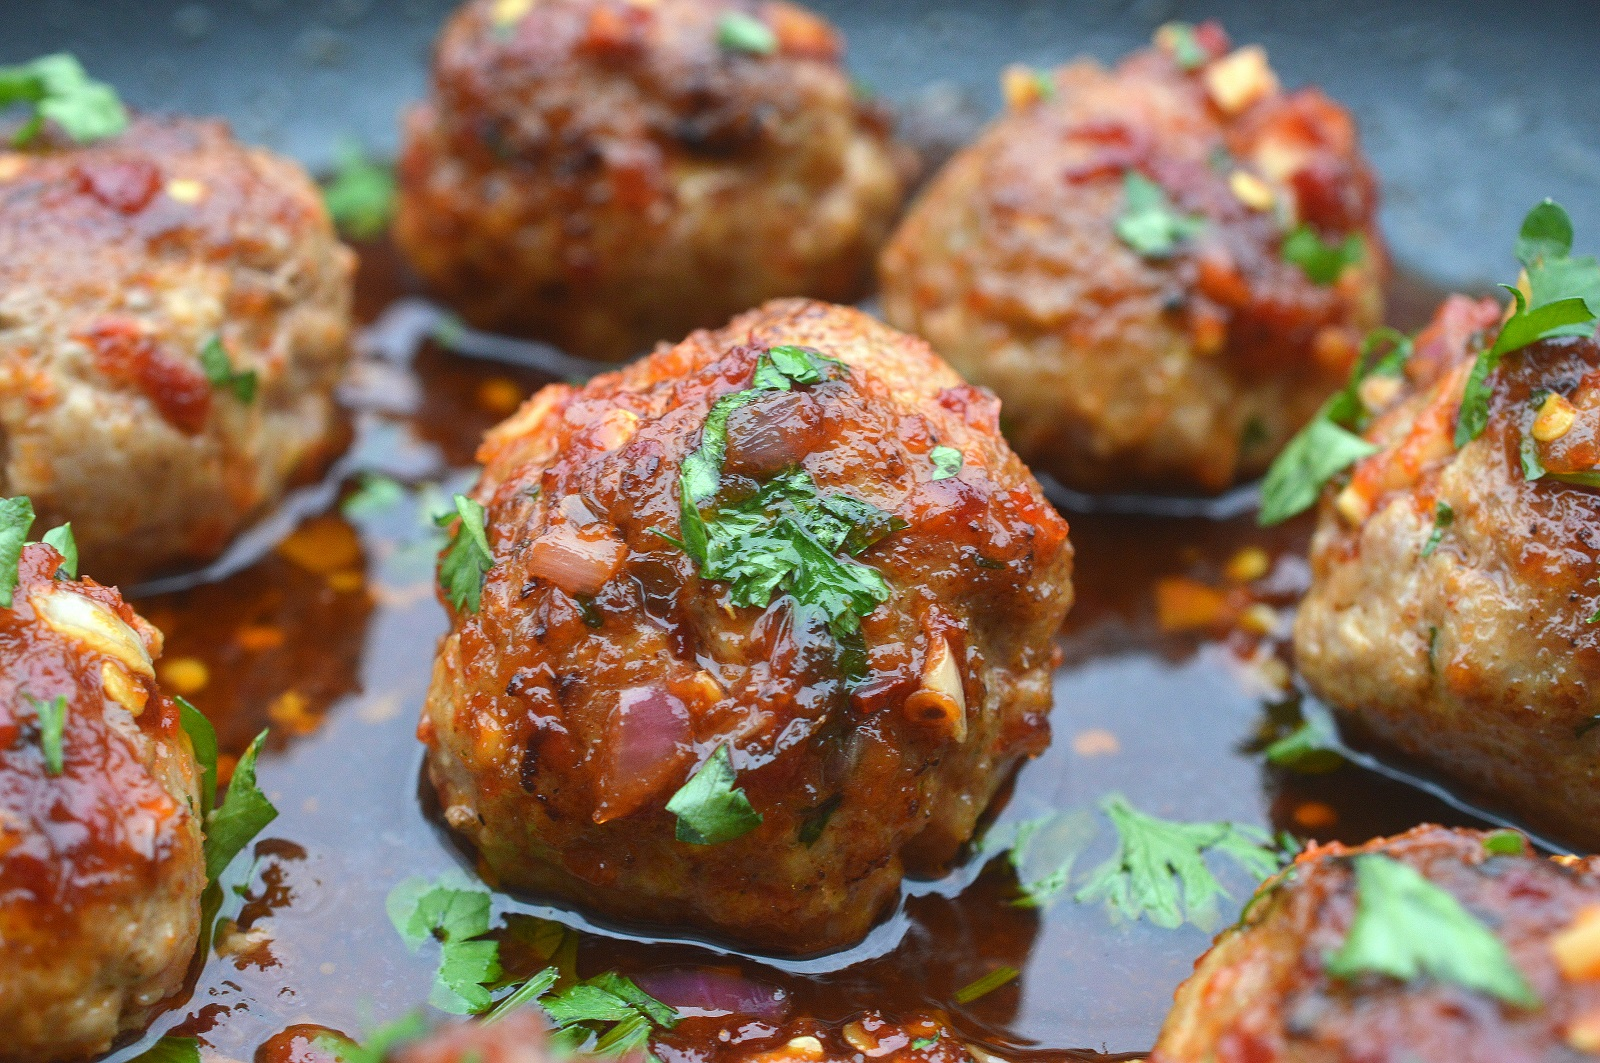meatballs: (457, 335, 1038, 909), (917, 42, 1392, 470), (1, 108, 349, 564), (1299, 313, 1600, 809), (436, 4, 863, 303), (1, 537, 227, 1013)
